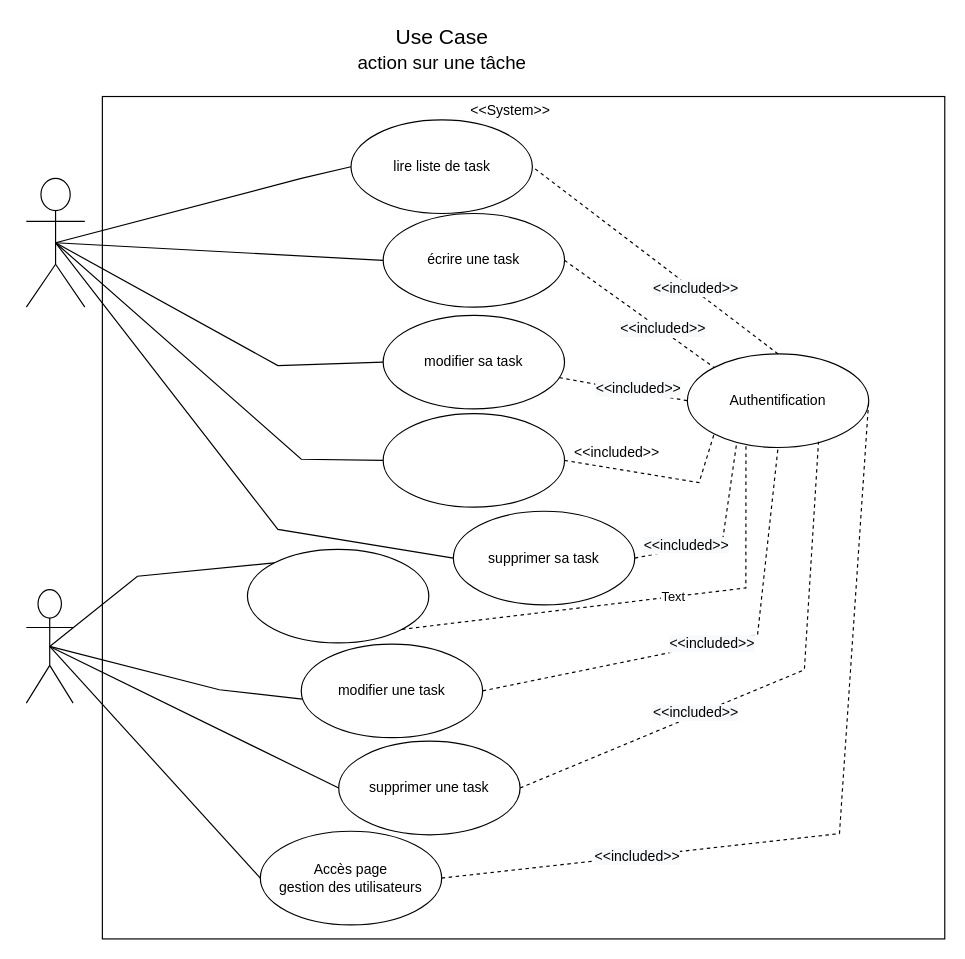
Image size: 965x959. Some labels were removed from this diagram. Each missing label, with the box of its shape:
Admin: (25, 589, 73, 703)
créer un compte: (246, 548, 429, 643)
toggle/fermer sa task: (382, 412, 565, 507)
User: (25, 177, 85, 307)
